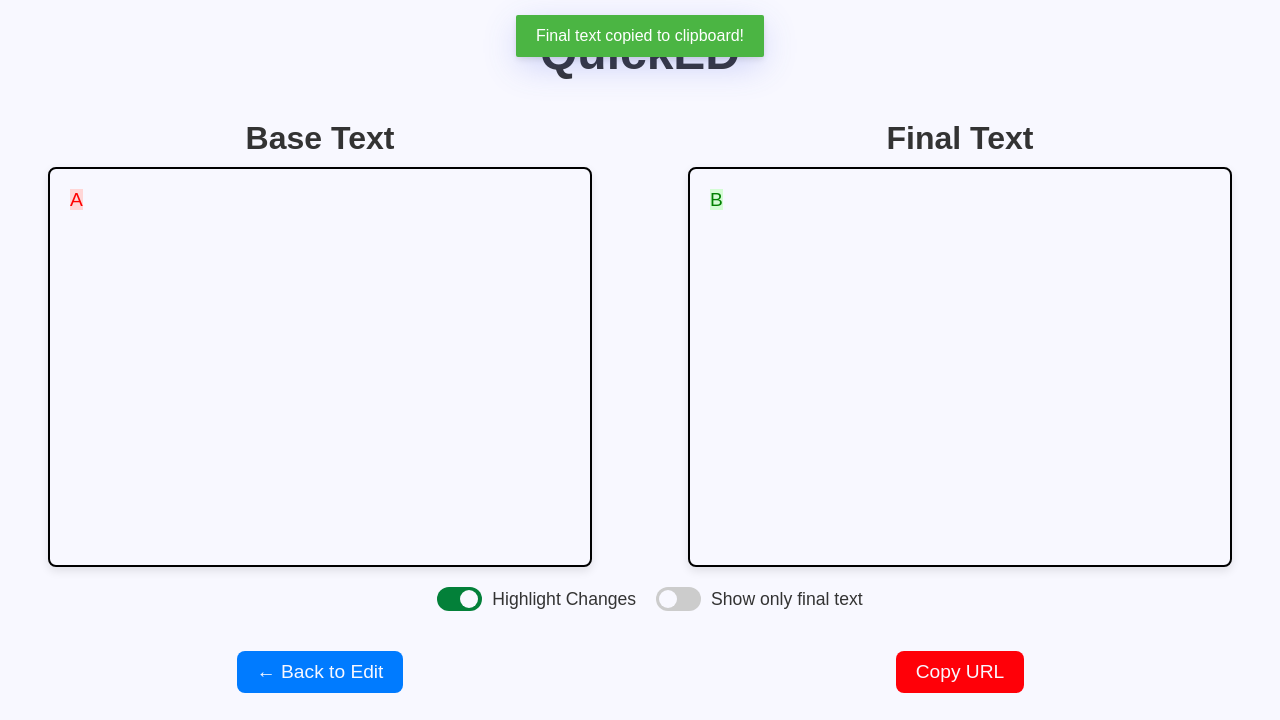
Test: QuickED Component › Highlight changes toggle shows plain textareas
Click the 1st checkbox at (460,599), box [437,587,482,611]
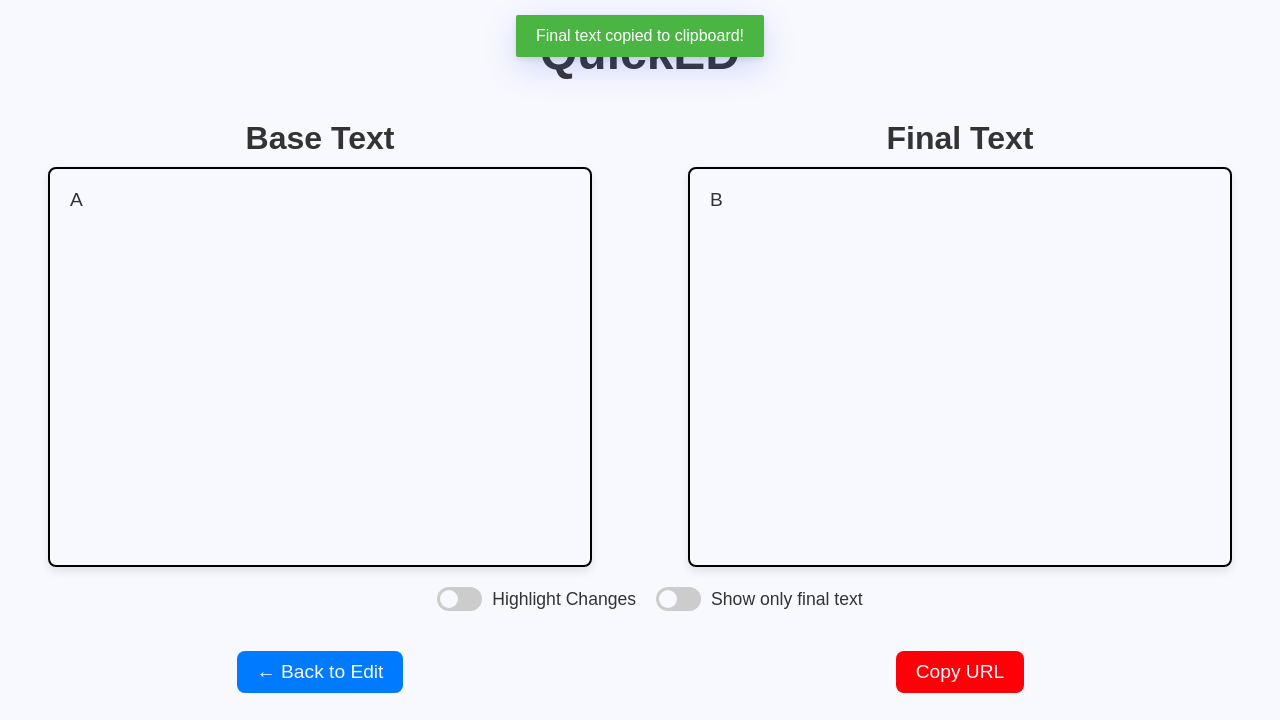
Expected: the number of text boxes is 2, [48,167,592,567]; [688,167,1232,567]
